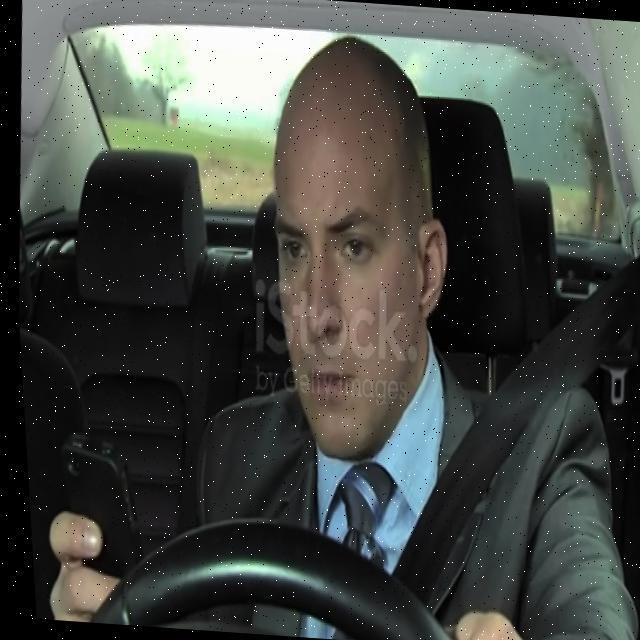PhoneCall: (42, 428, 144, 594)
